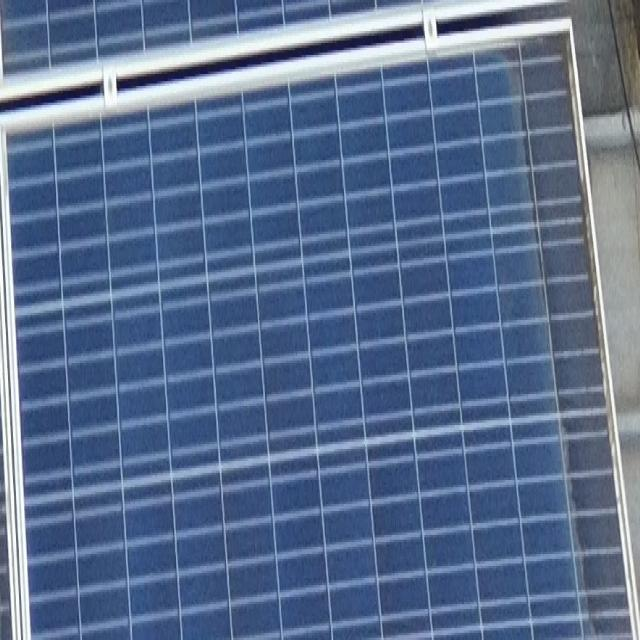Dust: (527, 38, 628, 640)
